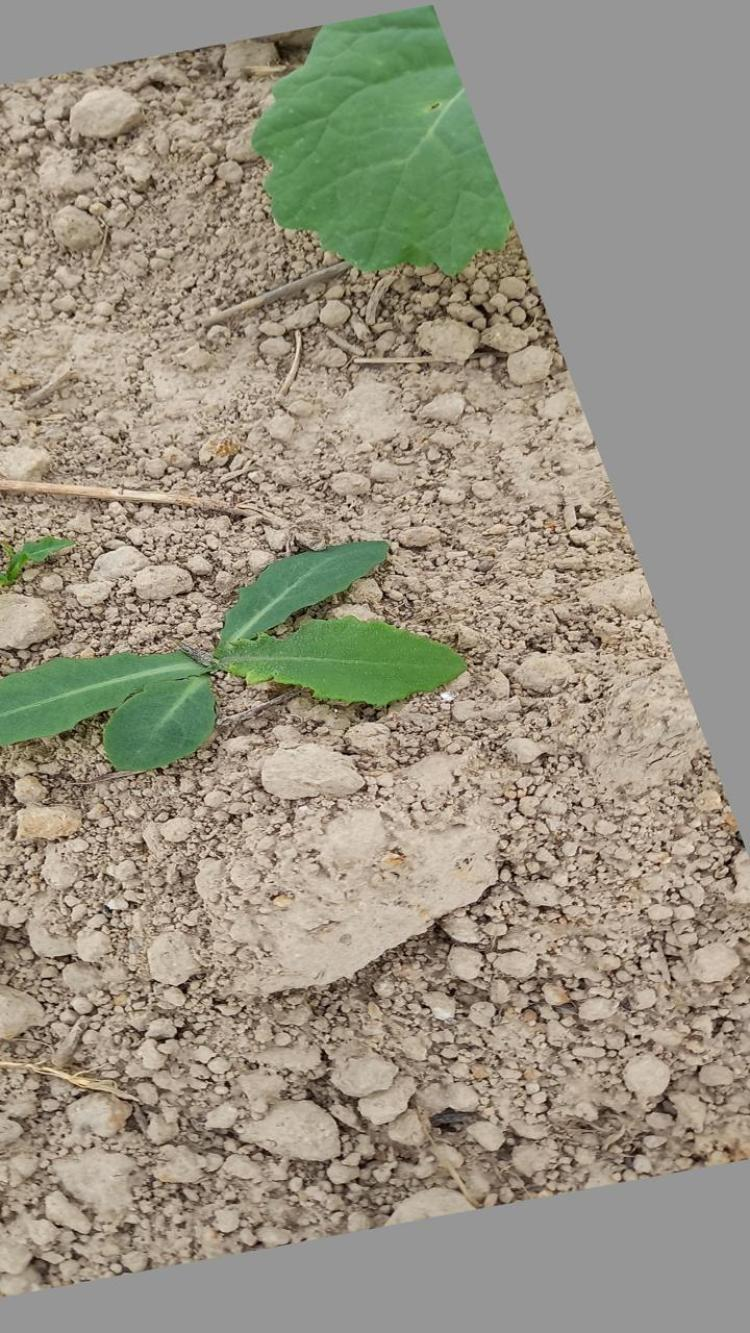bodyak: (0, 531, 473, 779)
